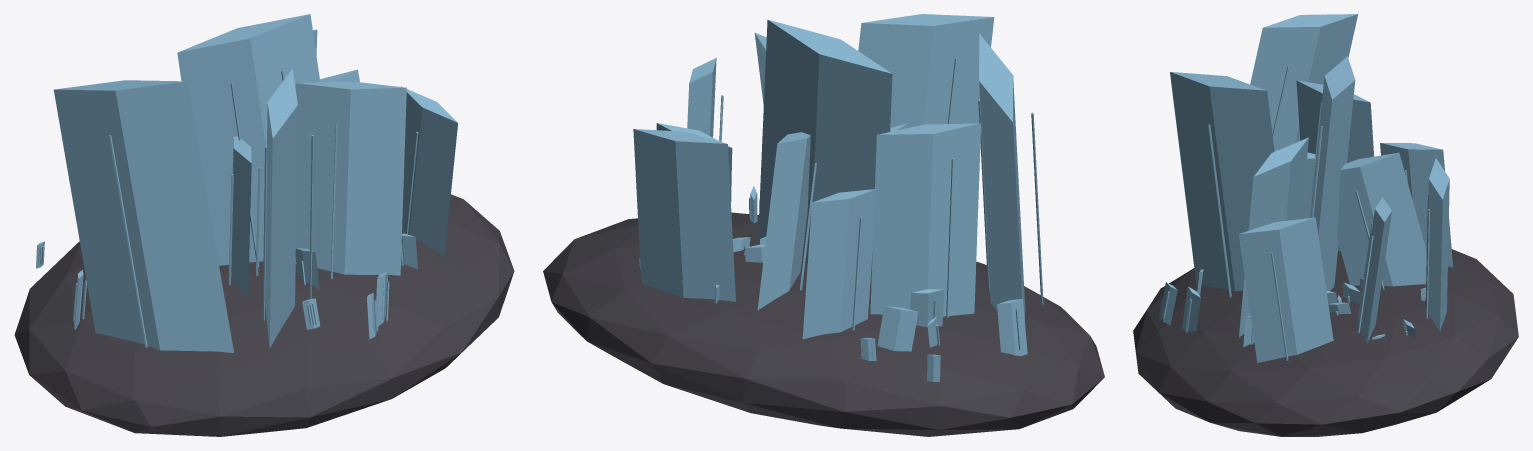
File: celestine.glb
3 renders of one model, left to right at view 1: azimuth 30°, elevation 25°; view 2: azimuth 150°, elevation 25°; view 3: azimuth 270°, elevation 25°, orthographic. The views are drawn at different scales.
Visible parts, largest first — view 1: Celestine; view 2: Celestine; view 3: Celestine.
Boxes of the visible parts, <box> form: Celestine: <box>14,14,514,436</box>; Celestine: <box>543,14,1104,436</box>; Celestine: <box>1133,14,1518,436</box>.
Bounding box in the file's own units: 3.96 × 2.71 × 3.03.
